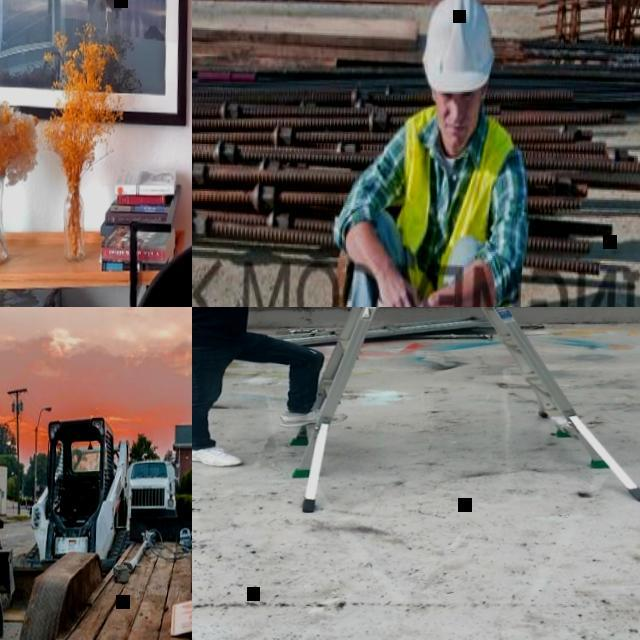helmet: (420, 0, 499, 99)
vest: (389, 105, 518, 307)
